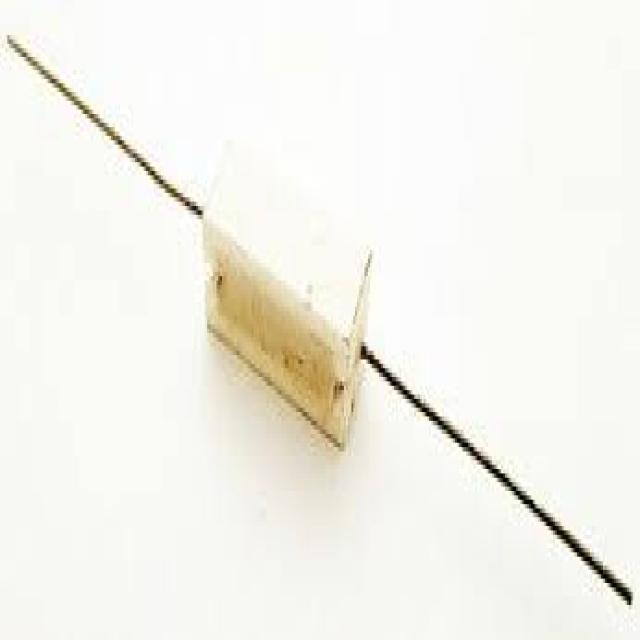Resistor: (197, 144, 375, 450)
